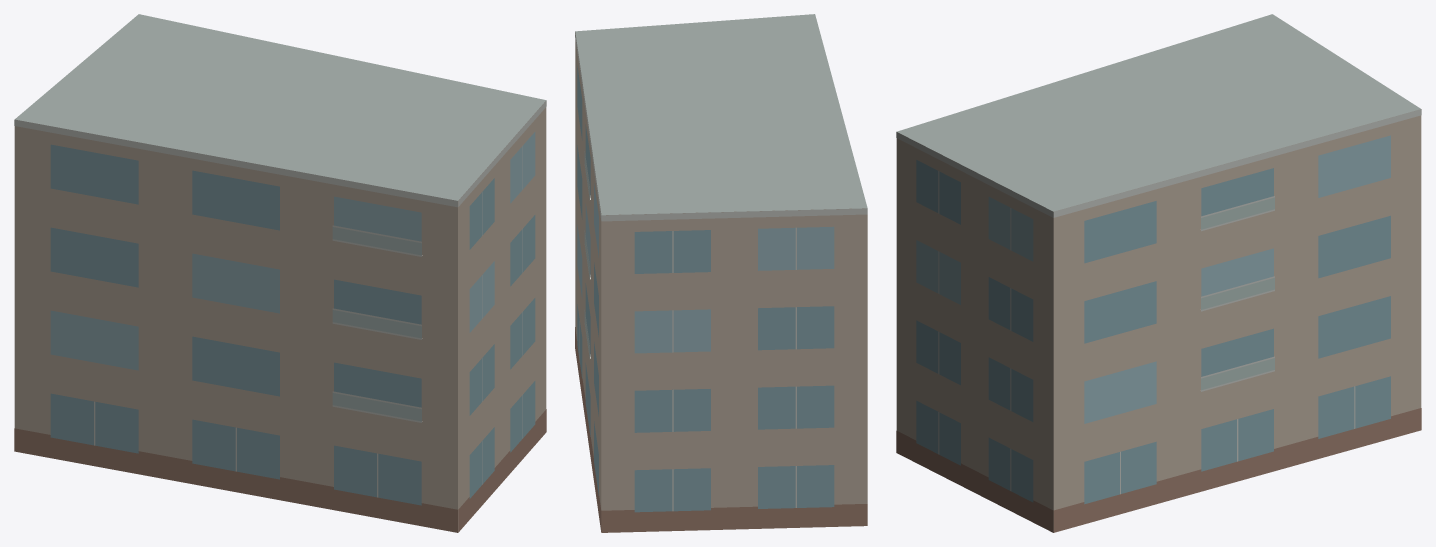
The model's file is survey-upis-32951757.glb.
The picture shows the model from 3 angles, left to right: view 1: azimuth 30°, elevation 25°; view 2: azimuth 150°, elevation 25°; view 3: azimuth 270°, elevation 25°; orthographic projection. The views are drawn at different scales.
Visible parts, largest first — view 1: survey-upis-32951757.tmp; view 2: survey-upis-32951757.tmp; view 3: survey-upis-32951757.tmp.
Part boxes in pixels (x1,y1,x2,y2): survey-upis-32951757.tmp: [14, 14, 546, 532]; survey-upis-32951757.tmp: [575, 14, 867, 532]; survey-upis-32951757.tmp: [896, 14, 1421, 532].
Size of the model in its own units: 16.51 by 12.5 by 18.53.
